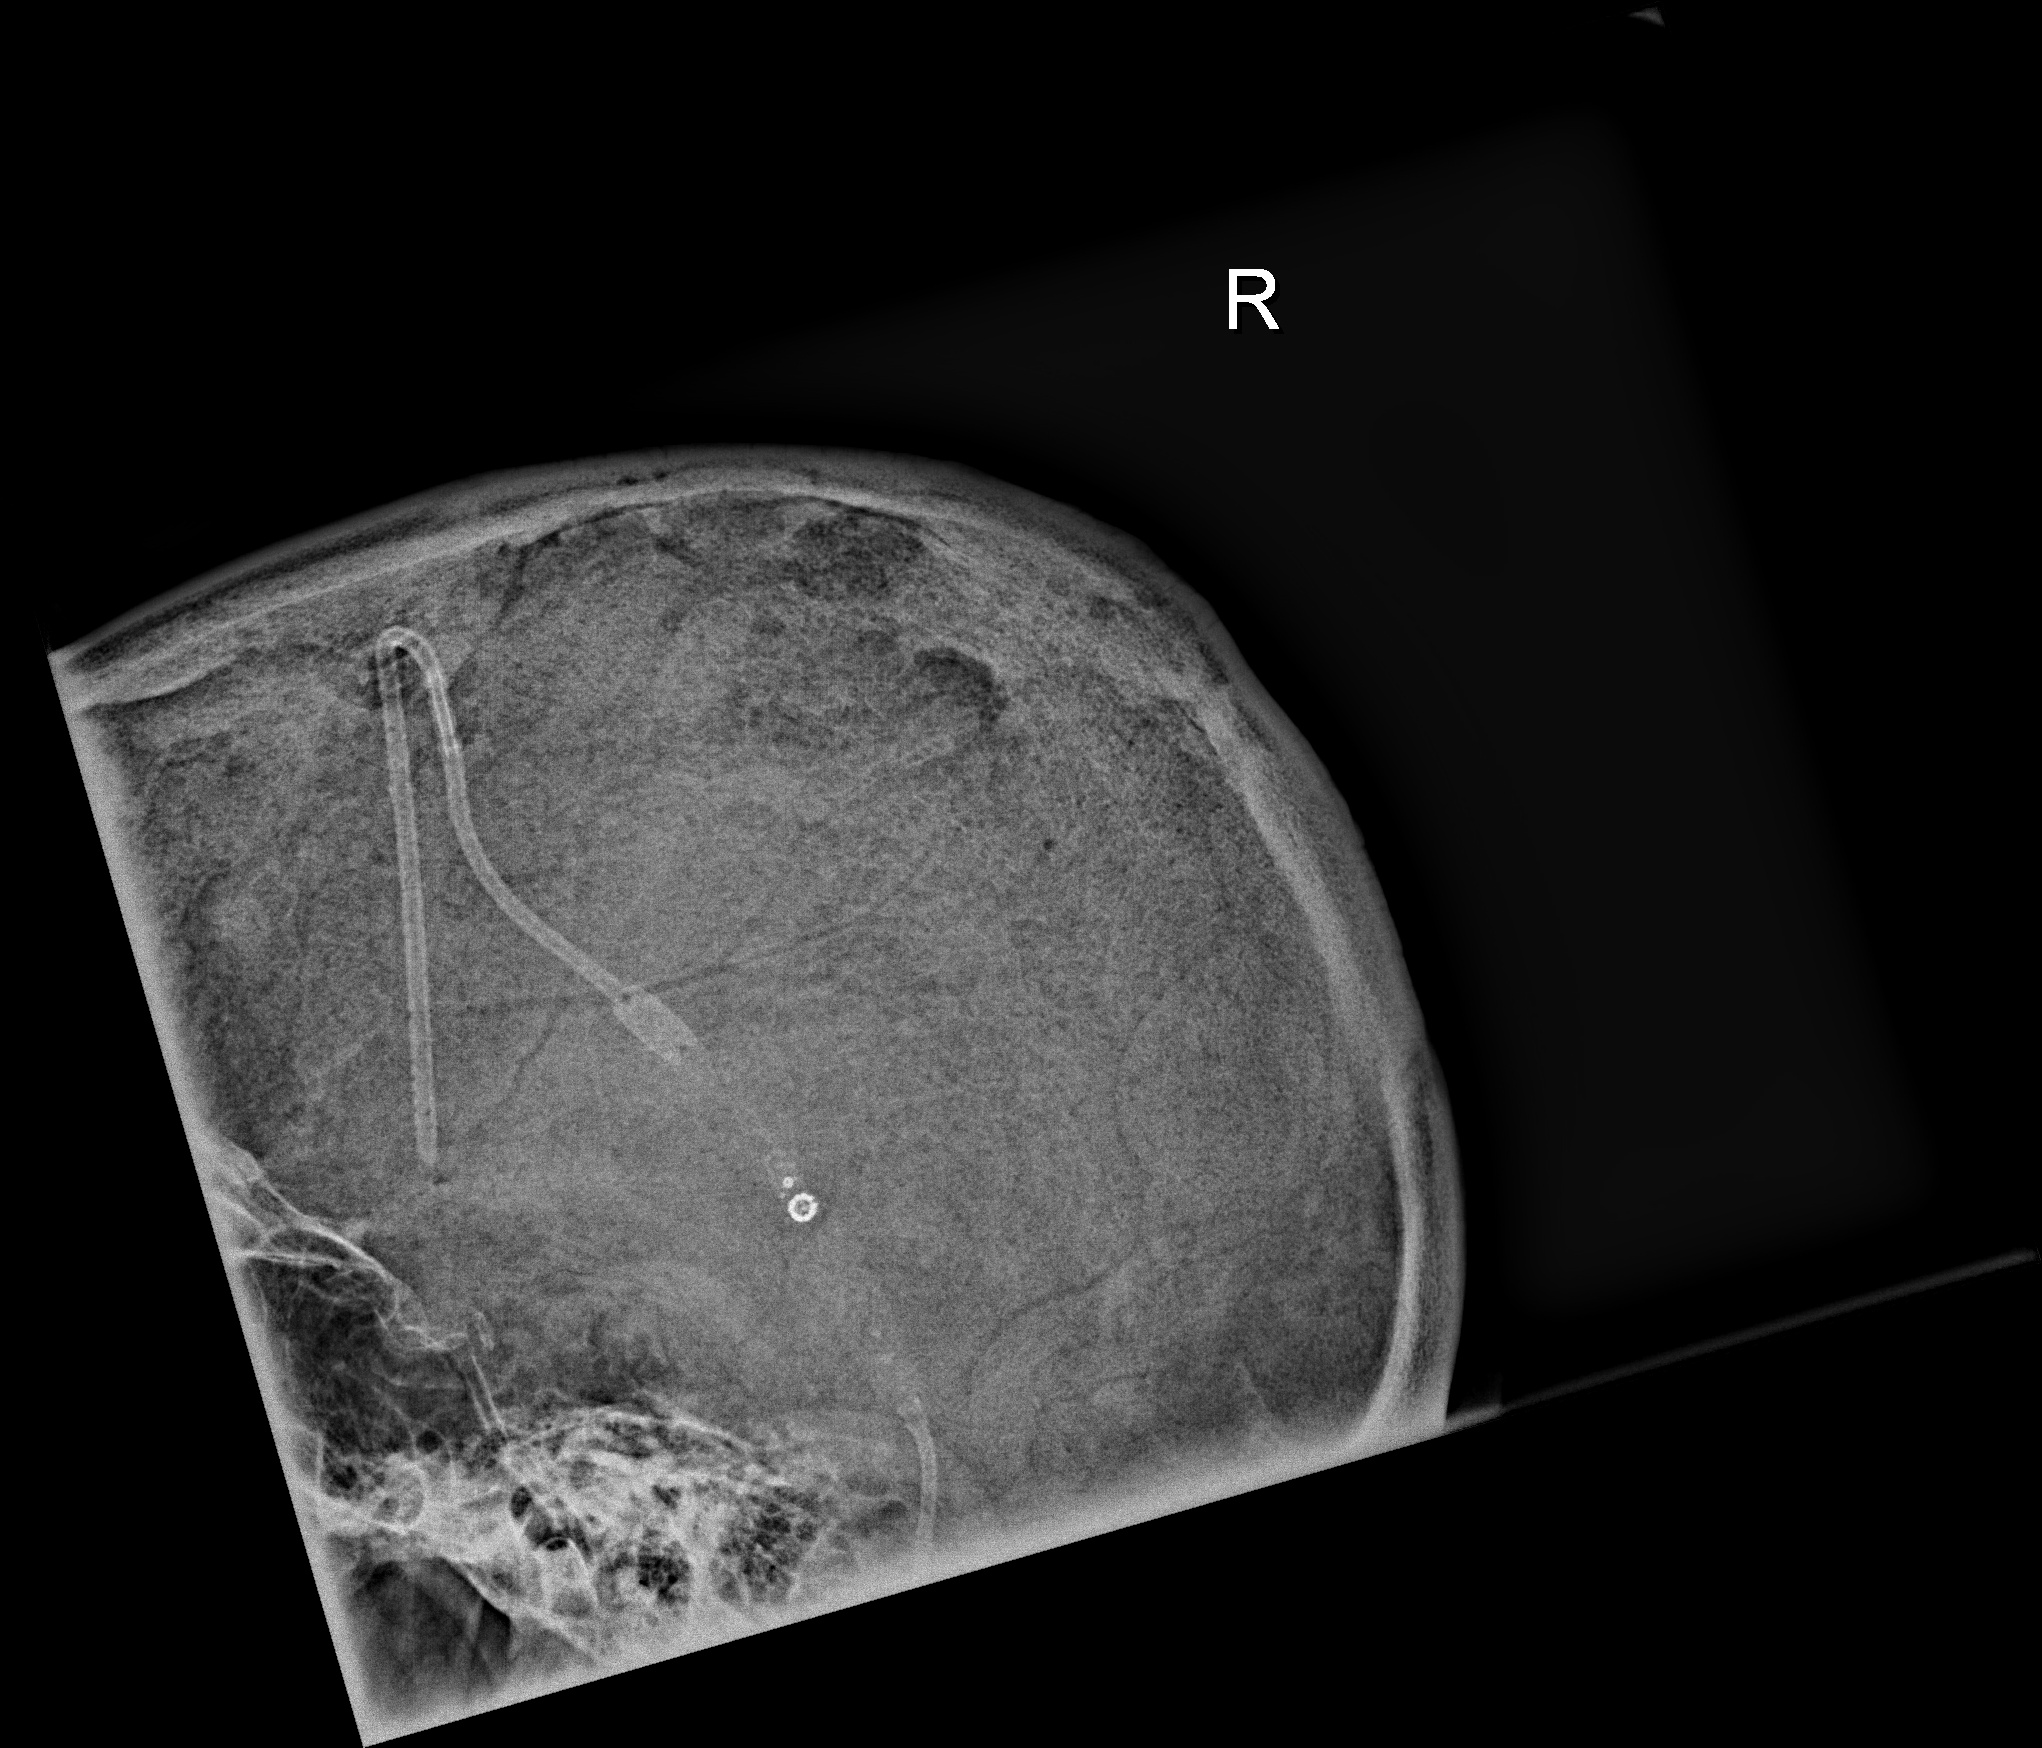Codman Hakim: (758, 1153, 834, 1242)
